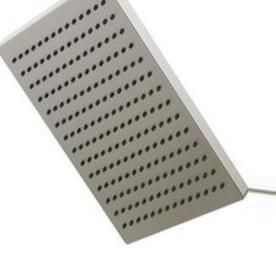Ducha: (0, 0, 275, 244)
